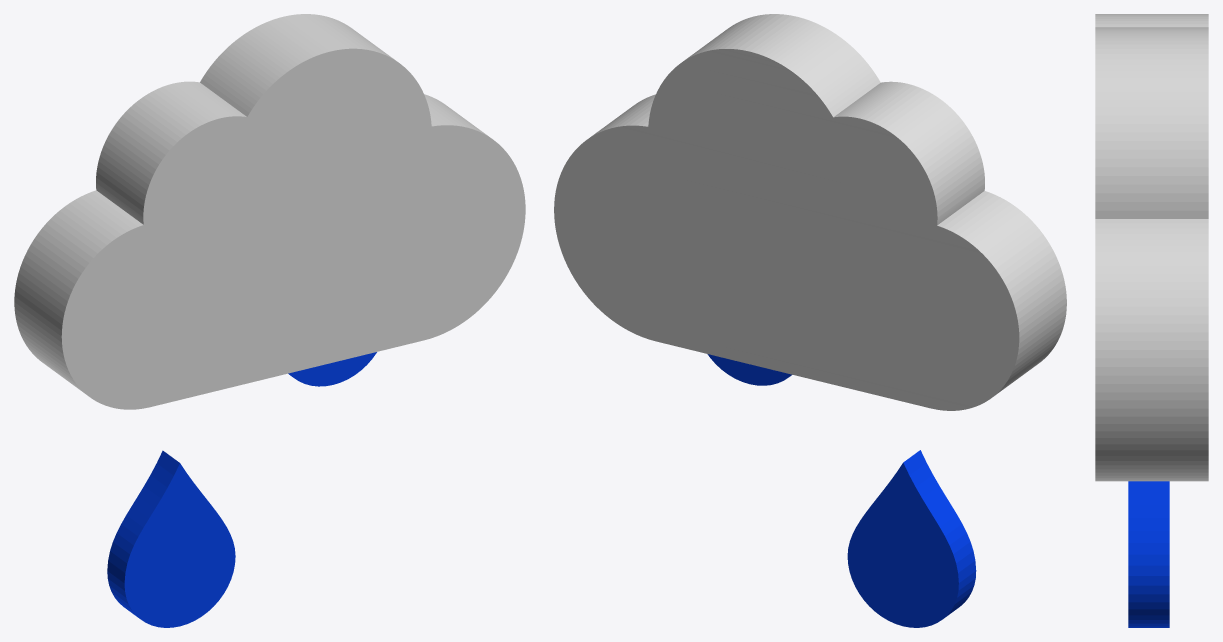
The model's file is raincloud.fbx.
The picture shows the model from 3 angles, left to right: view 1: azimuth 30°, elevation 25°; view 2: azimuth 150°, elevation 25°; view 3: azimuth 270°, elevation 25°; orthographic projection. The views are drawn at different scales.
Parts seen in each view (by area): view 1: path3293, Curve.001, Curve; view 2: path3293, Curve.001, Curve; view 3: path3293, Curve.001.
Part boxes in pixels (box(x1,y1,x2,y2)): path3293: box(14, 14, 525, 409); Curve.001: box(107, 450, 235, 627); Curve: box(288, 352, 376, 386); path3293: box(554, 14, 1066, 410); Curve.001: box(847, 450, 976, 627); Curve: box(707, 354, 792, 385); path3293: box(1095, 14, 1208, 481); Curve.001: box(1128, 481, 1169, 627).
Bounding box in the file's own units: 96.91 × 110 × 17.17.
